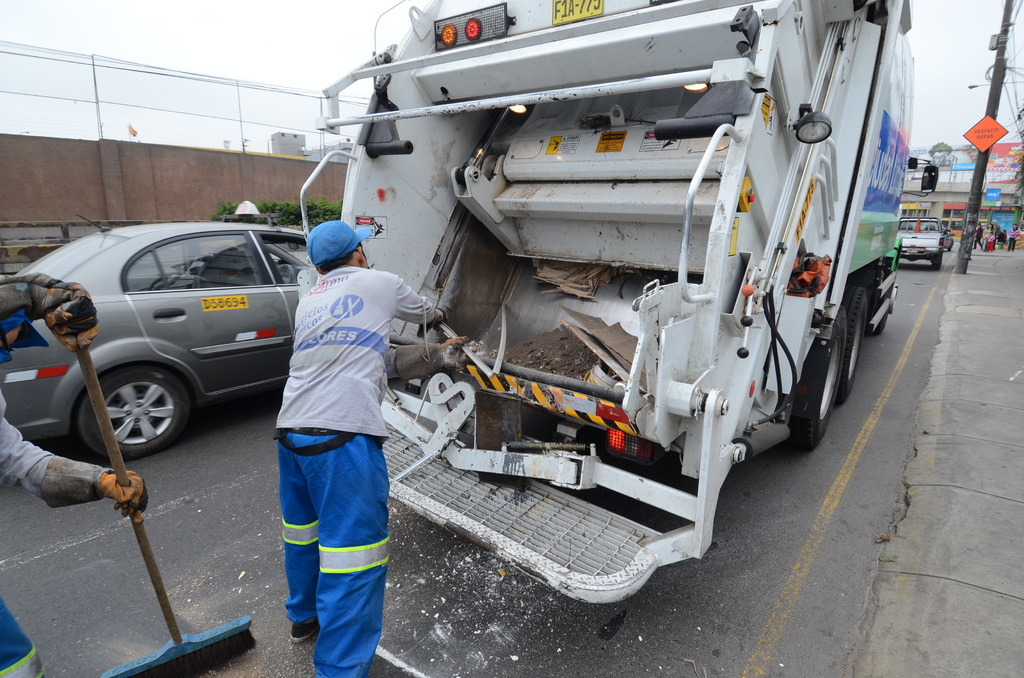Person: (271, 220, 479, 677), (0, 267, 150, 678), (974, 220, 1023, 253)
